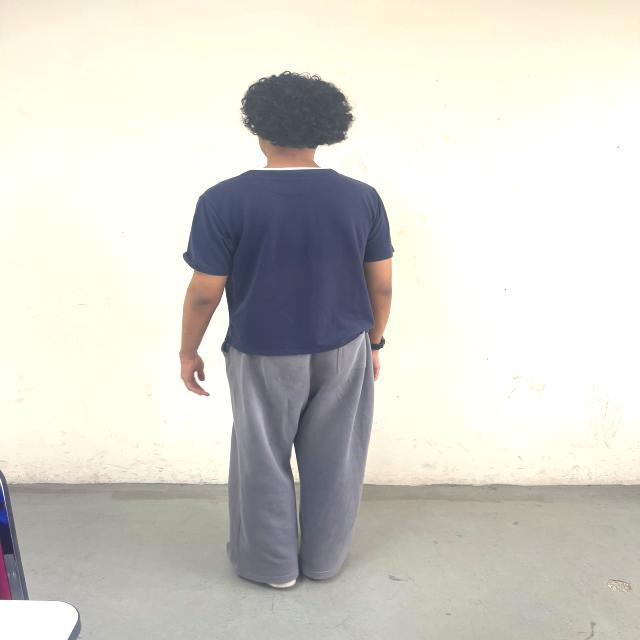person_without_labcoat: (180, 72, 393, 588)
